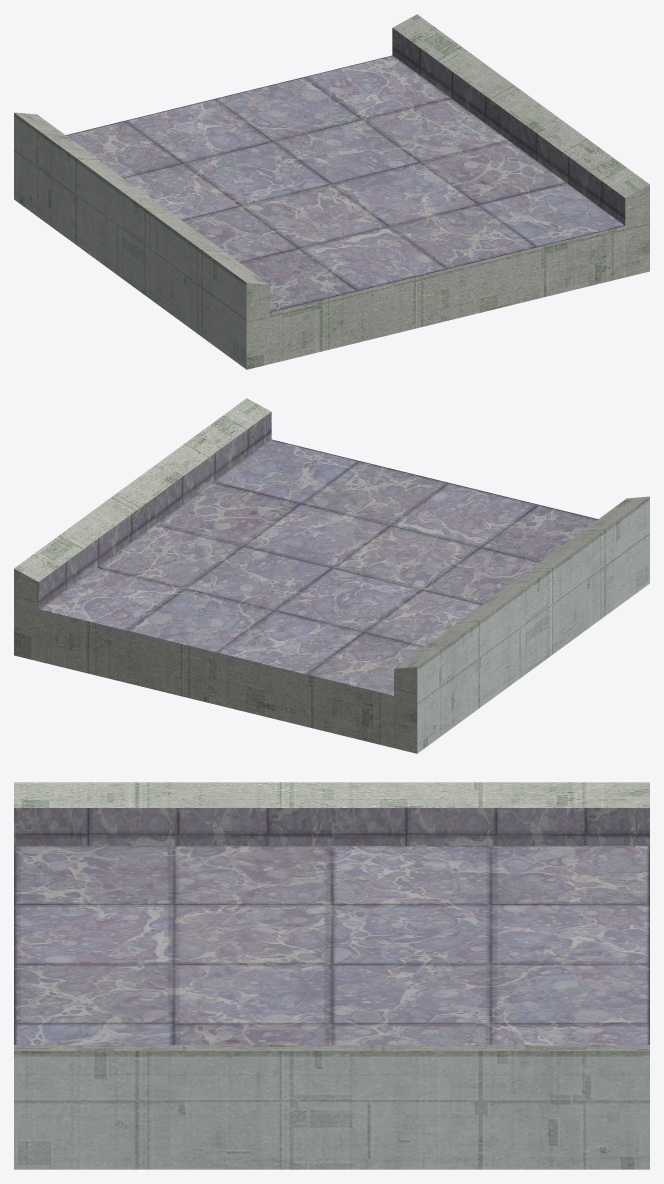
The model's file is bes2_bldg_skyway.glb.
3 views of the same model, one above another, from view 1: azimuth 30°, elevation 25°; view 2: azimuth 150°, elevation 25°; view 3: azimuth 270°, elevation 25° (orthographic). The views are drawn at different scales.
Parts seen in each view (by area): view 1: mesh_part1, mesh_part2; view 2: mesh_part1, mesh_part2; view 3: mesh_part1, mesh_part2.
Boxes of the visible parts, left/top/right/bottom form: mesh_part1: left=66, top=28, right=625, bottom=312; mesh_part2: left=14, top=14, right=649, bottom=369; mesh_part1: left=38, top=412, right=597, bottom=696; mesh_part2: left=14, top=398, right=649, bottom=753; mesh_part1: left=14, top=808, right=649, bottom=1044; mesh_part2: left=14, top=782, right=649, bottom=1169.
Size of the model in its own units: 8 by 1.65 by 8.
2 materials, 2 textured.
